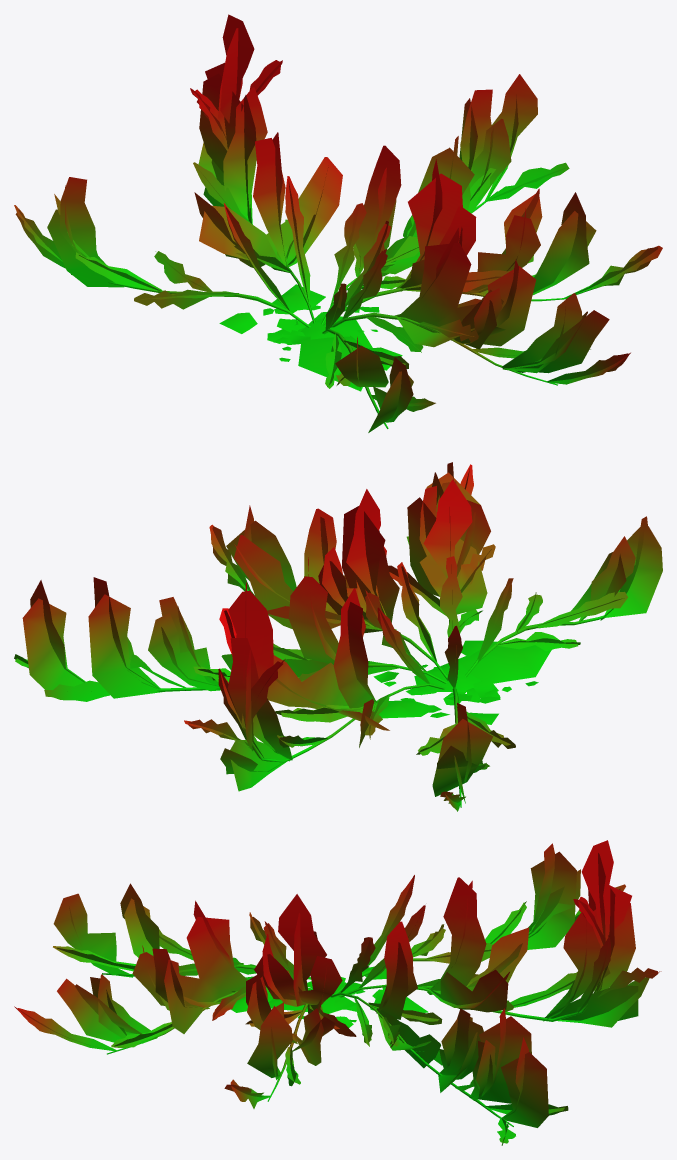
File: River Saltbush_LOD0_Var3_vdfpcgbia.fbx
The picture shows the model from 3 angles, top to bottom: view 1: azimuth 30°, elevation 25°; view 2: azimuth 150°, elevation 25°; view 3: azimuth 270°, elevation 25°; orthographic projection. The views are drawn at different scales.
Parts seen in each view (by area): view 1: _3m3n_Var3_LOD0; view 2: _3m3n_Var3_LOD0; view 3: _3m3n_Var3_LOD0.
Boxes of the visible parts, <box> form: _3m3n_Var3_LOD0: <box>14,14,662,432</box>; _3m3n_Var3_LOD0: <box>14,462,662,811</box>; _3m3n_Var3_LOD0: <box>14,840,661,1145</box>.
Size of the model in its own units: 75.92 by 29.56 by 91.16.
